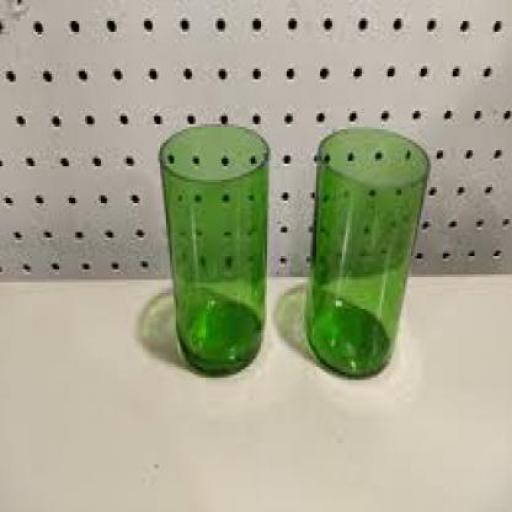glass: (305, 124, 429, 374), (156, 122, 269, 372)
